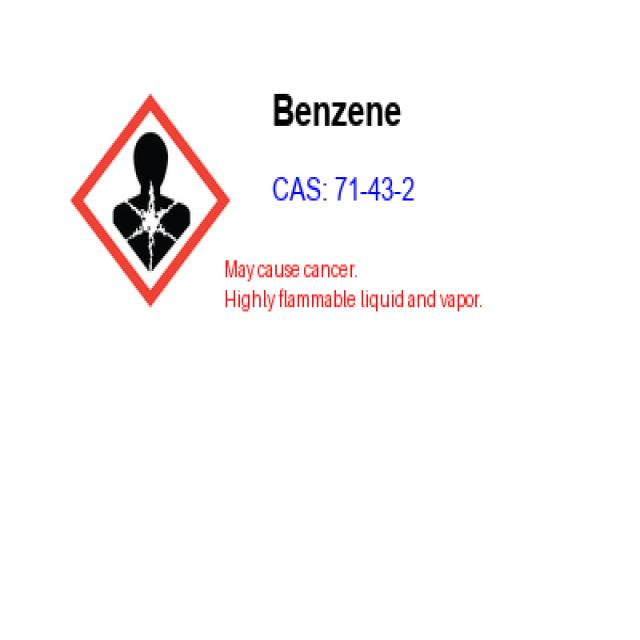cas number: (271, 175, 439, 214)
chemical name: (275, 82, 413, 144)
health hazard: (76, 93, 225, 316)
warning text: (224, 252, 493, 329)
